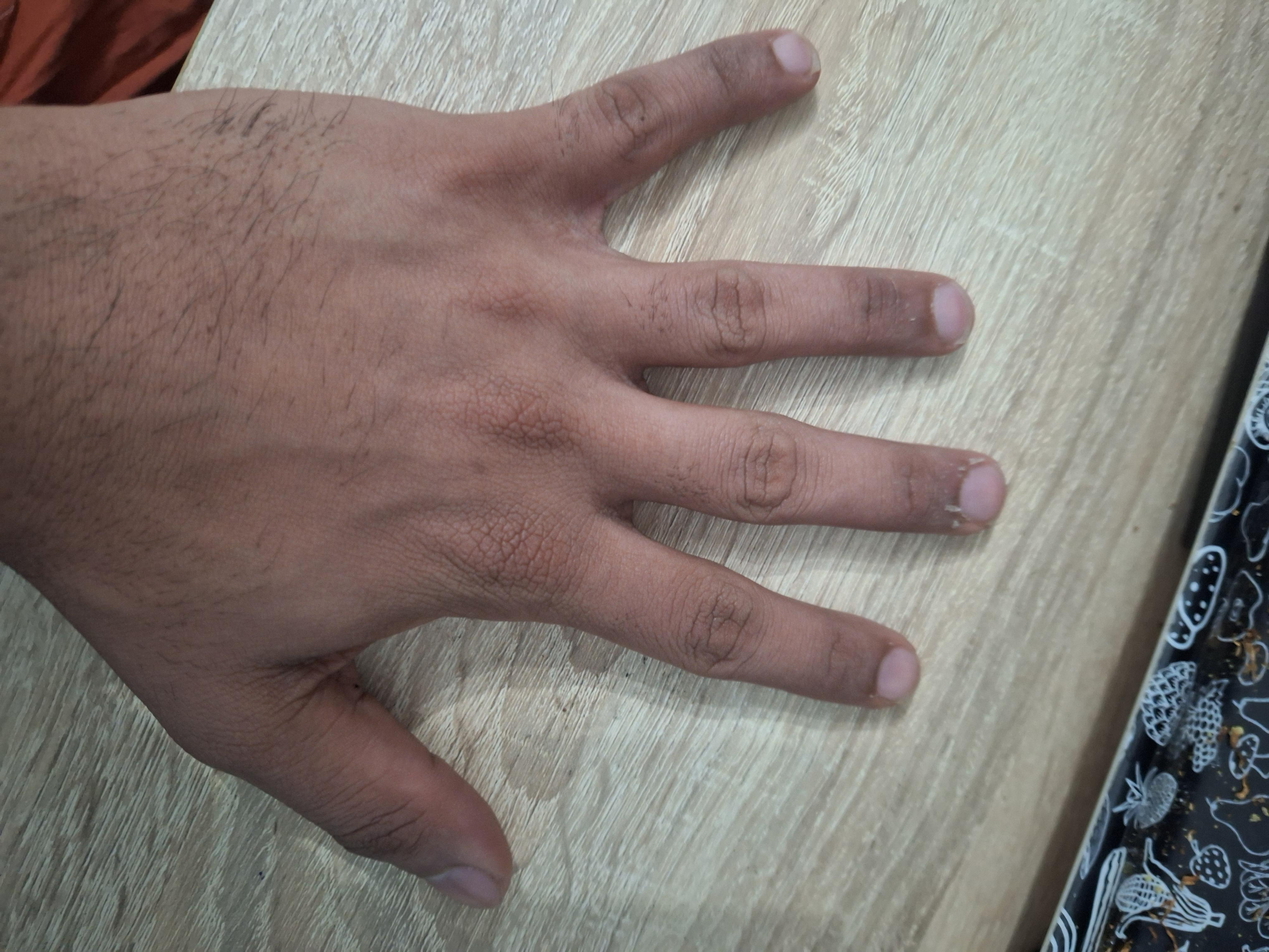Fingernail: (959, 464, 1003, 522), (934, 282, 972, 345), (773, 31, 820, 75)
